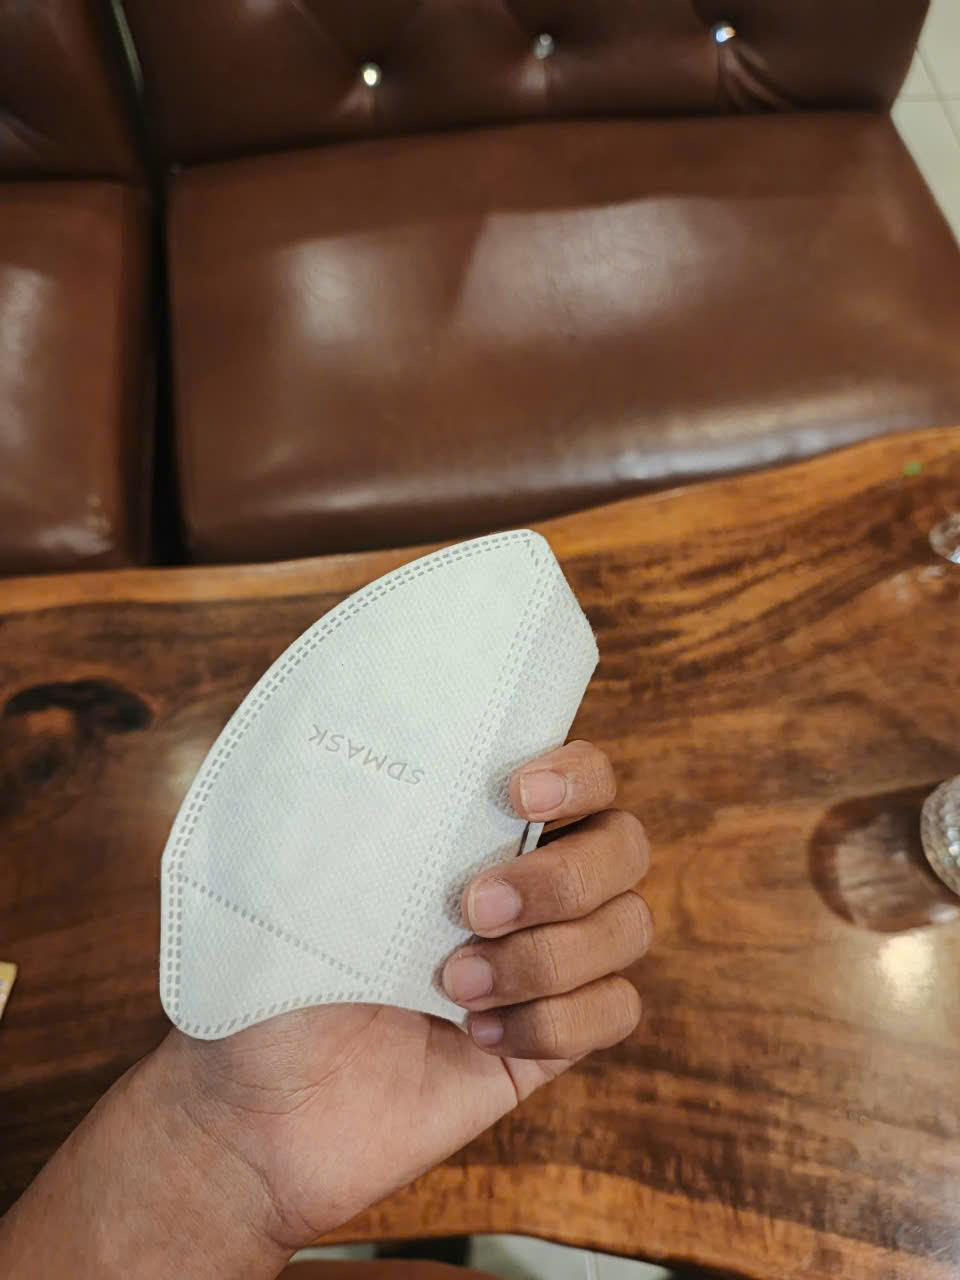Con lai: (158, 525, 604, 1045)
